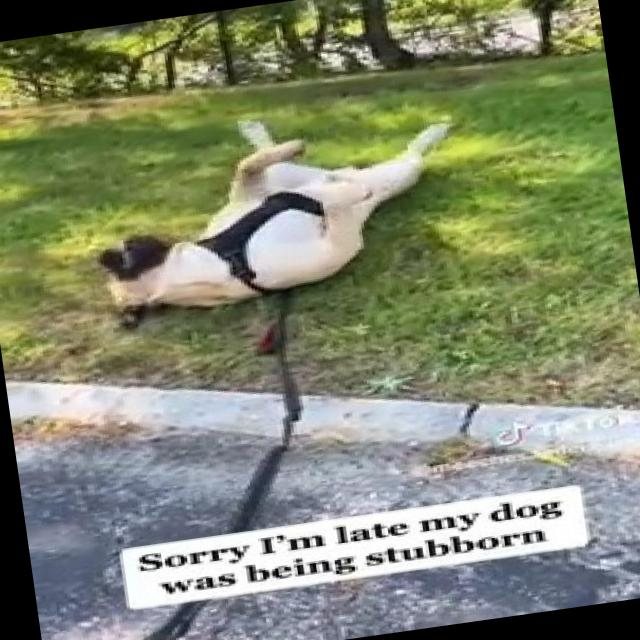dog: (81, 81, 488, 374)
